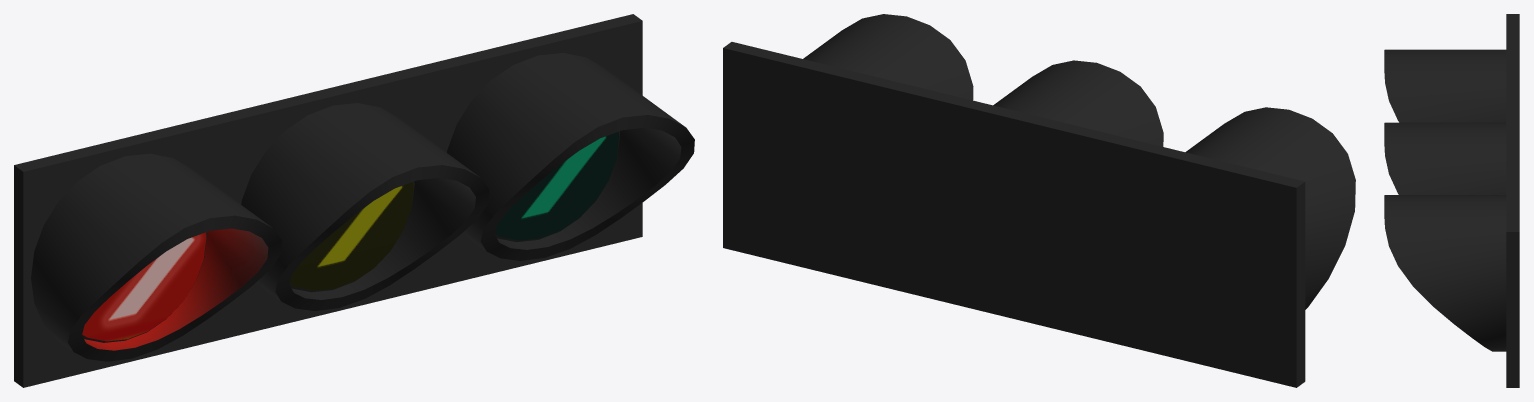
File: sm_trli_002_04.fbx
3 renders of one model, left to right at view 1: azimuth 30°, elevation 25°; view 2: azimuth 150°, elevation 25°; view 3: azimuth 270°, elevation 25°, orthographic. The views are drawn at different scales.
Visible parts, largest first — view 1: sm_trli_002_04; view 2: sm_trli_002_04; view 3: sm_trli_002_04.
Part boxes in pixels (<box>): sm_trli_002_04: <box>14,14,694,387</box>; sm_trli_002_04: <box>723,14,1355,387</box>; sm_trli_002_04: <box>1384,14,1519,387</box>.
Size of the model in its own units: 1.28 by 0.4252 by 0.3352.
